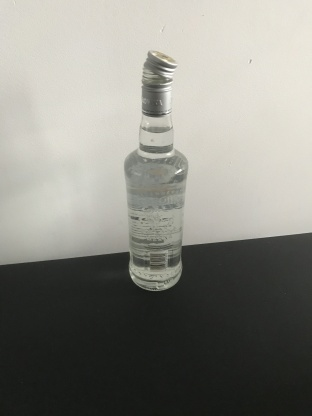nakretka: (139, 46, 178, 117)
